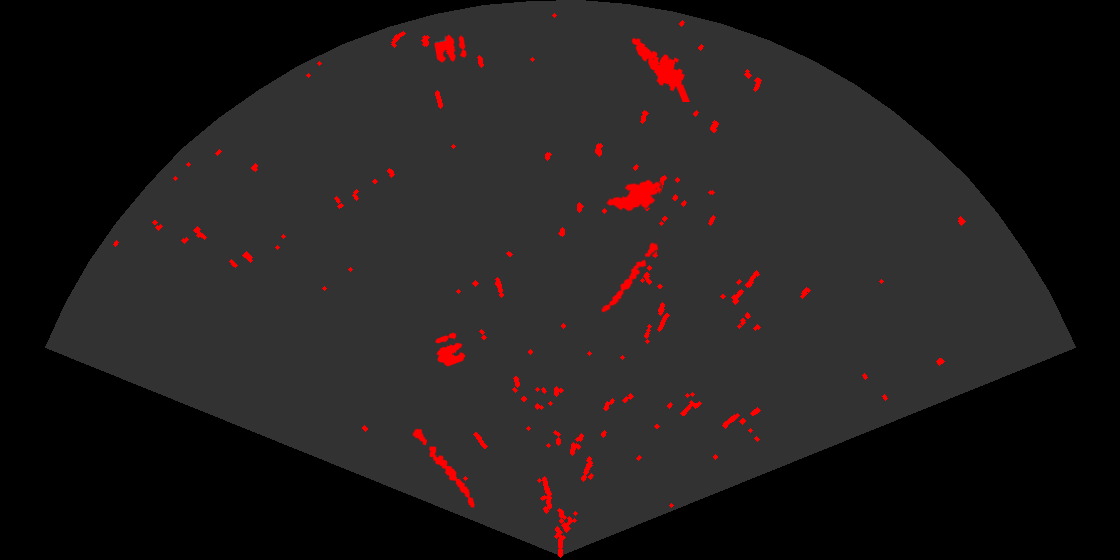AUV: (605, 178, 664, 213)
ball: (433, 331, 467, 368), (433, 33, 468, 64)
chain: (411, 427, 476, 509), (600, 236, 664, 314)
frogman: (630, 36, 691, 102)
